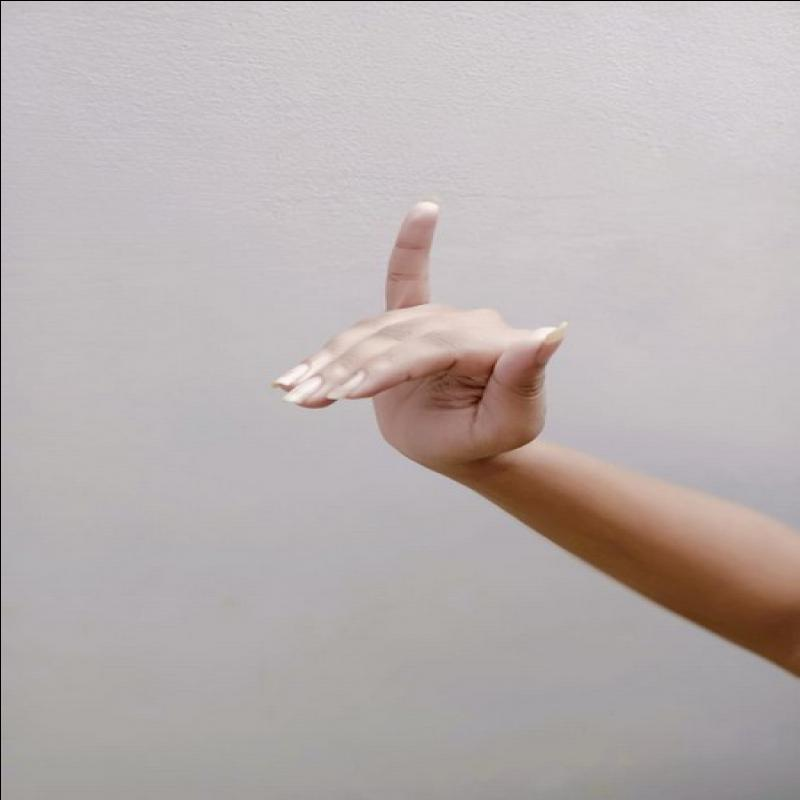Kartharee Mukham: (257, 190, 578, 484)
